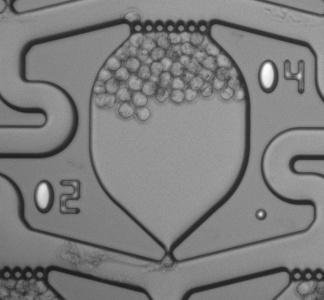AptNum: (249, 55, 311, 100)
Marker: (245, 200, 275, 227)
StNum: (27, 174, 89, 224)
Trap: (146, 251, 190, 293)
